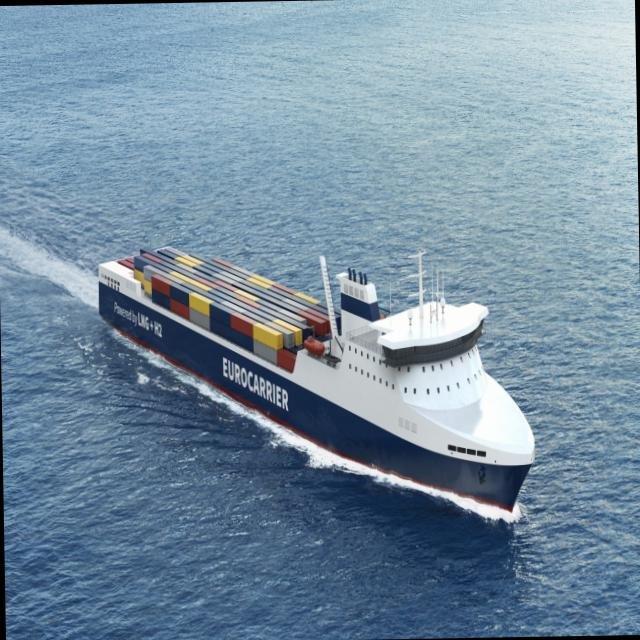boat: (82, 138, 582, 578)
